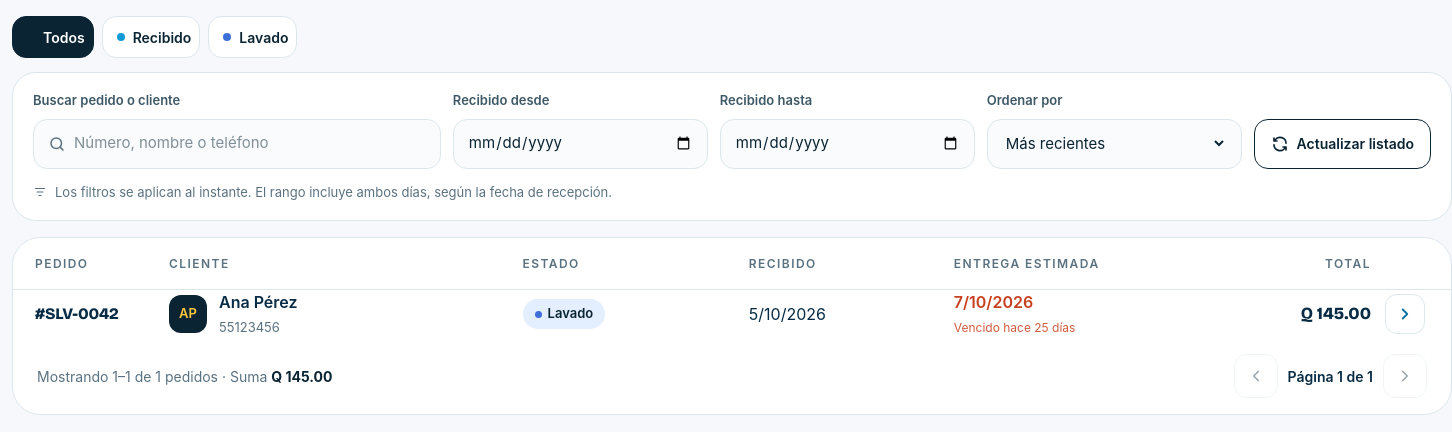
Test: listado de pedidos › rechaza fechas invertidas antes de consultar el servidor
Expected: the text "#SLV-0042" is shown, [35,304,119,323]
In the date field labelled "Recibido hasta": (847, 144) [735,132,960,155], type "2026-10-01"
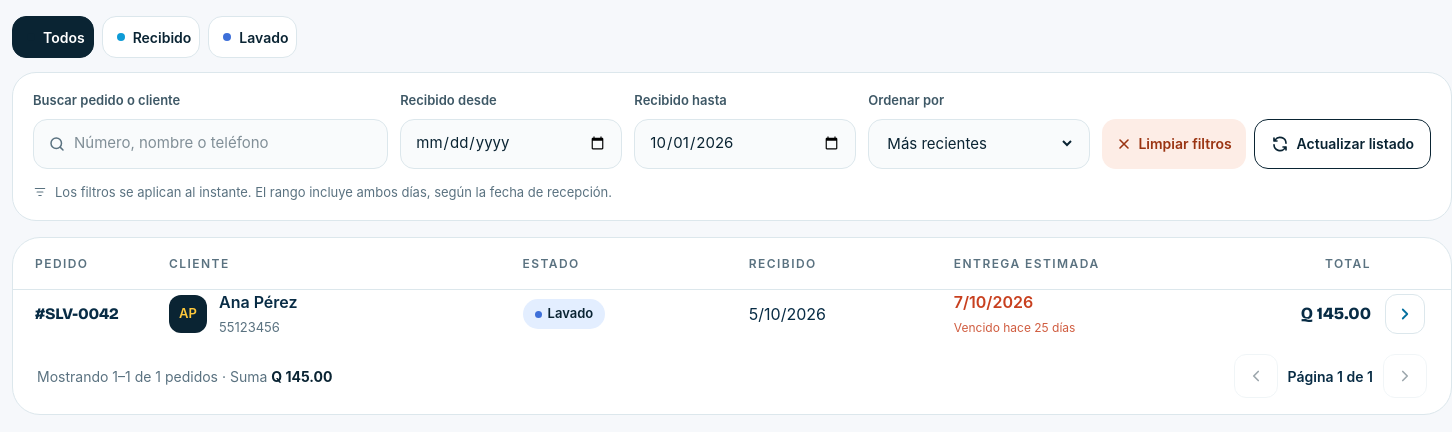
In the date field labelled "Recibido desde": (511, 144) [415,132,607,155], type "2026-10-10"
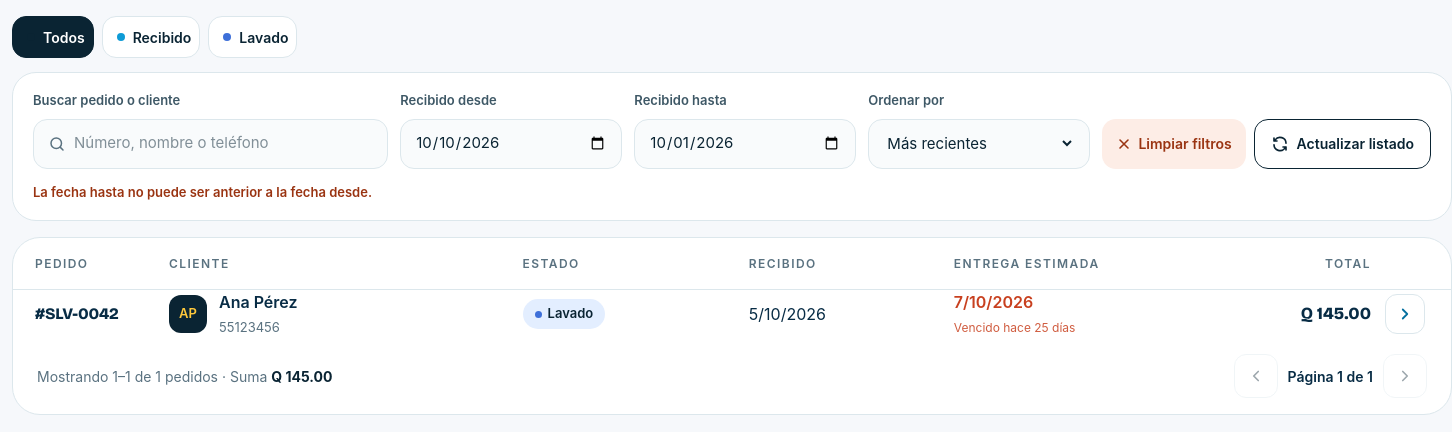
Result: the message shows "La fecha hasta no puede ser anterior" at [33,184,372,200]
